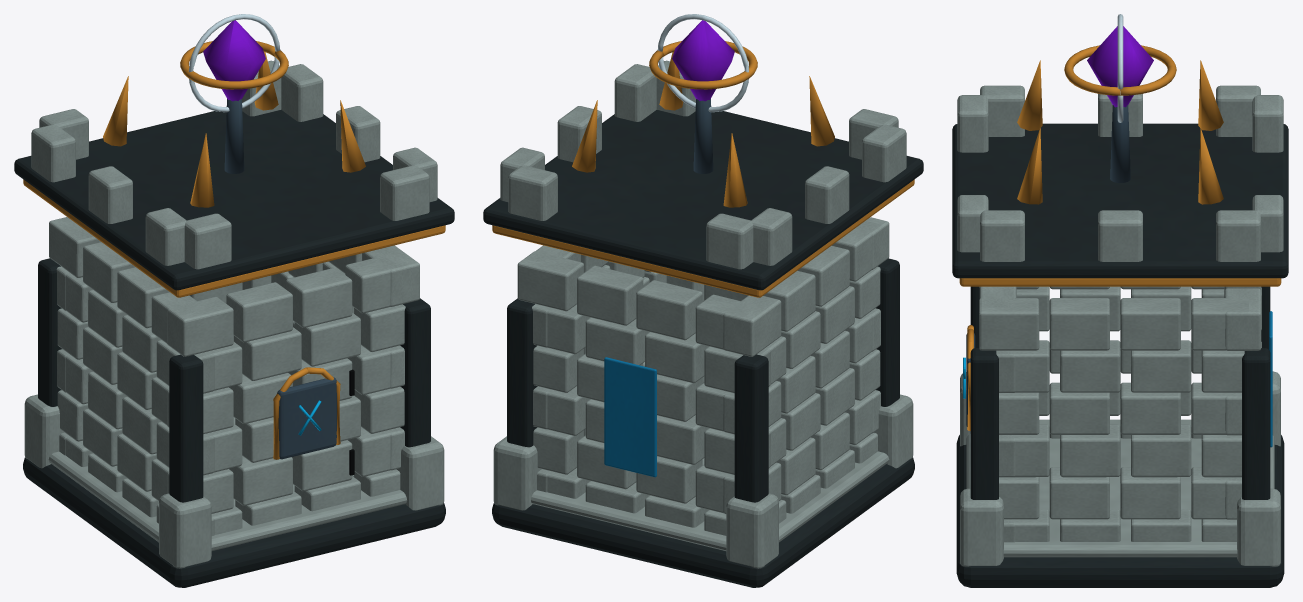
The model's file is SM_tower_core_LOD1.fbx.
3 views of the same model, side by side, from view 1: azimuth 30°, elevation 25°; view 2: azimuth 150°, elevation 25°; view 3: azimuth 270°, elevation 25° (orthographic). The views are drawn at different scales.
Parts seen in each view (by area): view 1: SM_tower_core_LOD1; view 2: SM_tower_core_LOD1; view 3: SM_tower_core_LOD1.
Boxes of the visible parts, <box> form: SM_tower_core_LOD1: <box>14,14,454,587</box>; SM_tower_core_LOD1: <box>483,14,923,587</box>; SM_tower_core_LOD1: <box>952,14,1288,587</box>.
Size of the model in its own units: 2.6 by 2.6 by 4.3.
